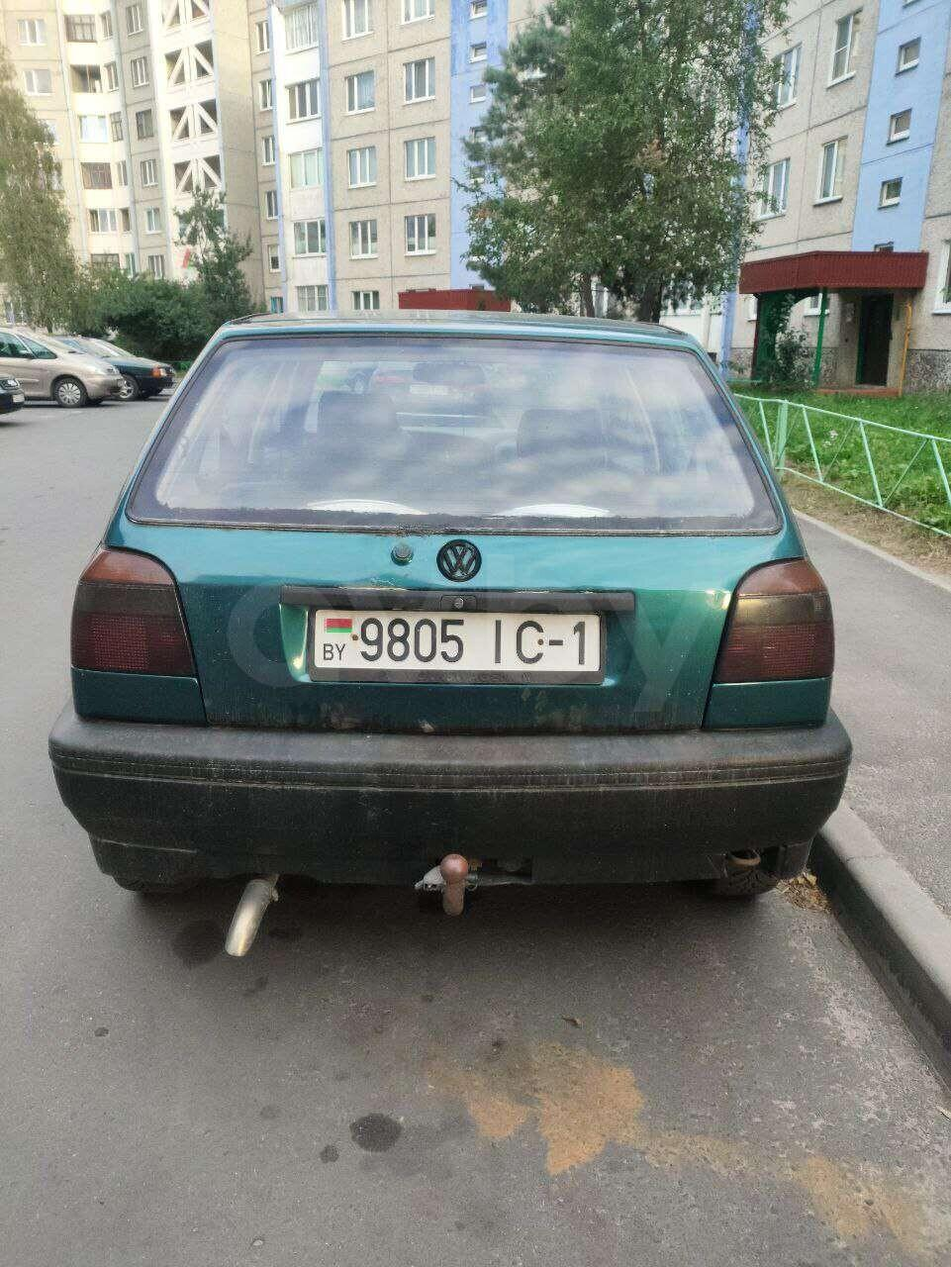Golf_1991-2000: (45, 302, 855, 956)
